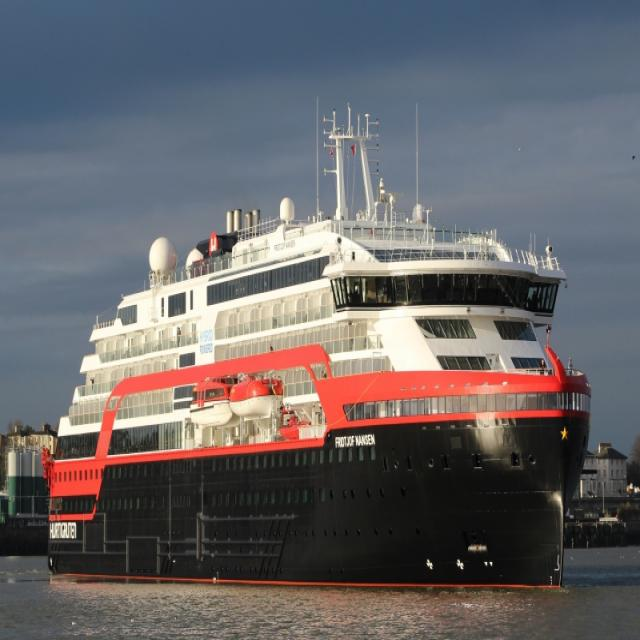cruises: (40, 105, 598, 599)
